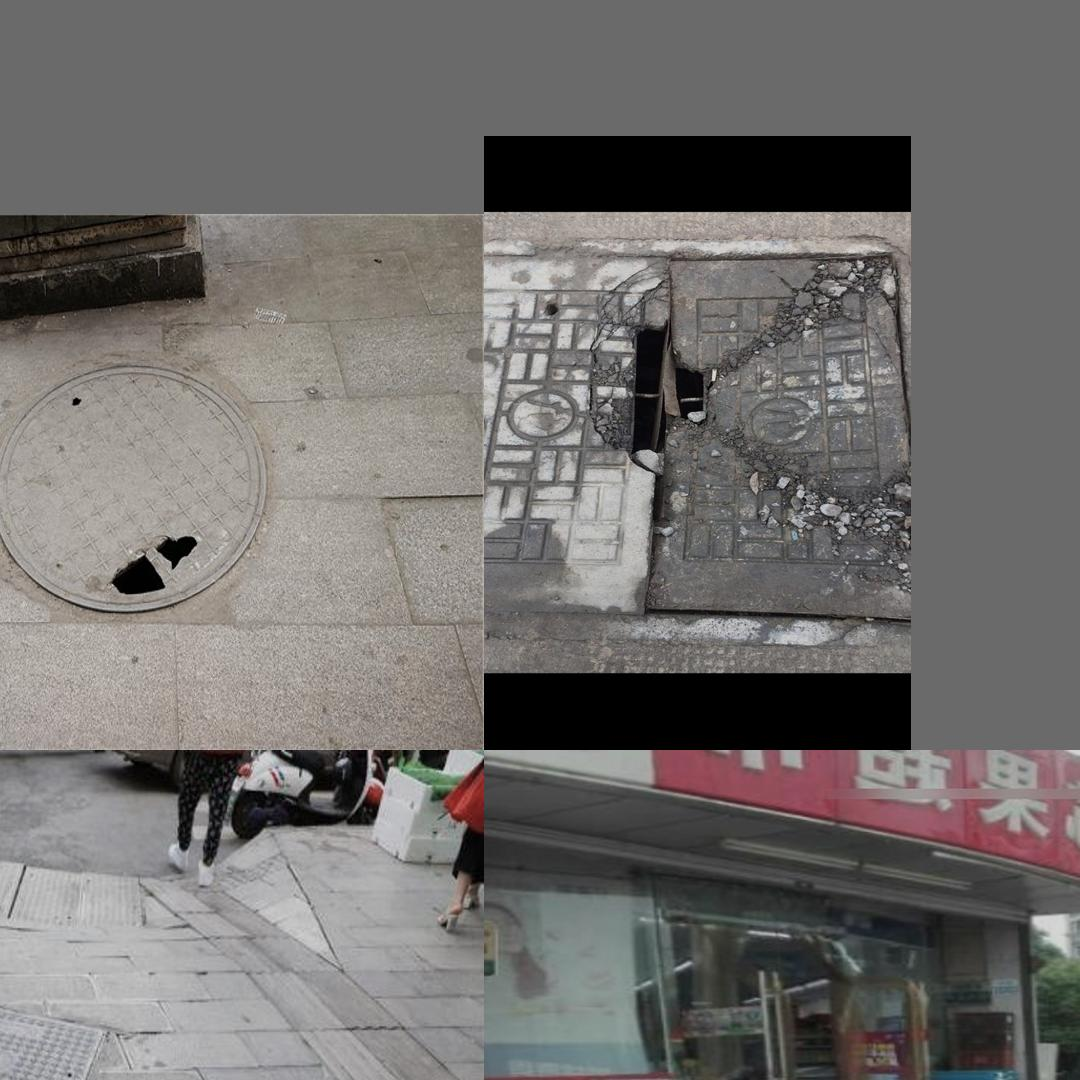broke: (489, 235, 910, 654), (0, 358, 265, 611)
